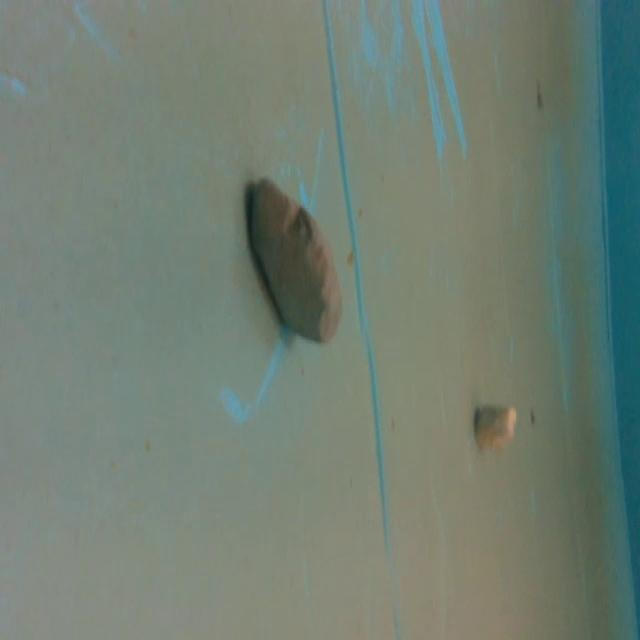rock: (245, 165, 349, 354)
